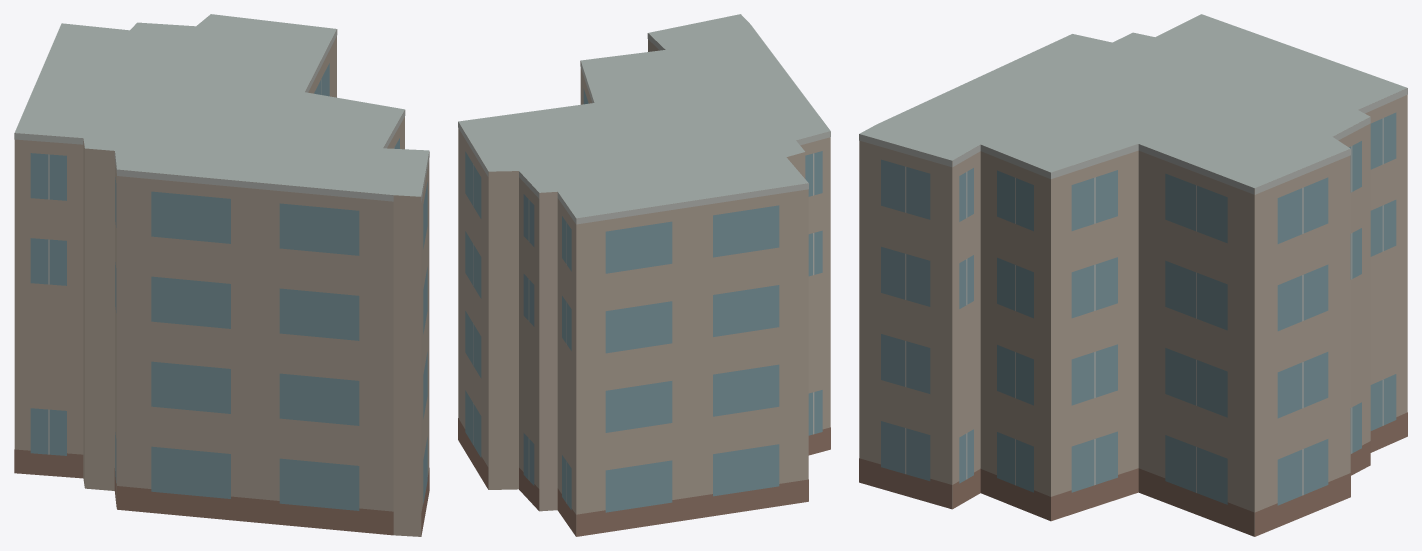
File: survey-upis-32648427.glb
3 views of the same model, side by side, from view 1: azimuth 30°, elevation 25°; view 2: azimuth 150°, elevation 25°; view 3: azimuth 270°, elevation 25° (orthographic). The views are drawn at different scales.
Visible parts, largest first — view 1: survey-upis-32648427.tmp; view 2: survey-upis-32648427.tmp; view 3: survey-upis-32648427.tmp.
Boxes of the visible parts, box(x1,y1,x2,y2) form: survey-upis-32648427.tmp: box(14, 14, 429, 536); survey-upis-32648427.tmp: box(458, 14, 830, 536); survey-upis-32648427.tmp: box(859, 14, 1407, 536).
Bounding box in the file's own units: 13.73 × 12.8 × 18.26.
